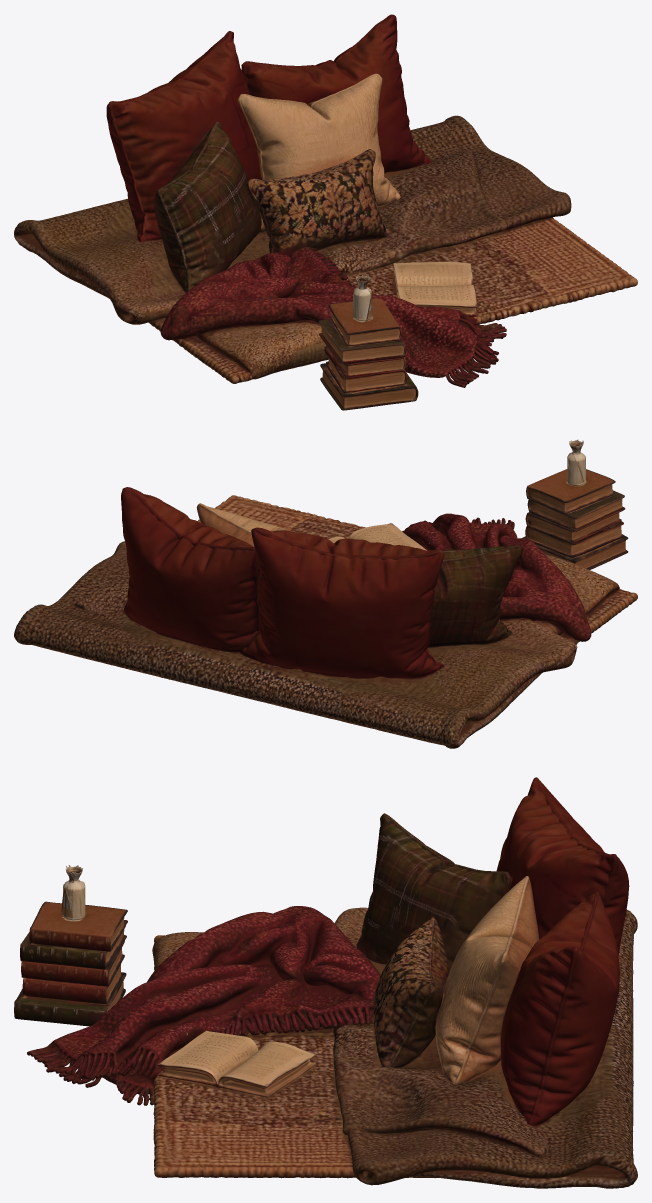
File: cozy-sofa.glb
The picture shows the model from 3 angles, top to bottom: view 1: azimuth 30°, elevation 25°; view 2: azimuth 150°, elevation 25°; view 3: azimuth 270°, elevation 25°; orthographic projection. The views are drawn at different scales.
Visible parts, largest first — view 1: tripo_node_d145f782-2c45-49c1-9e29-809dc2638163; view 2: tripo_node_d145f782-2c45-49c1-9e29-809dc2638163; view 3: tripo_node_d145f782-2c45-49c1-9e29-809dc2638163.
Boxes of the visible parts, left/top/right/bottom form: tripo_node_d145f782-2c45-49c1-9e29-809dc2638163: left=14, top=14, right=637, bottom=410; tripo_node_d145f782-2c45-49c1-9e29-809dc2638163: left=14, top=439, right=637, bottom=748; tripo_node_d145f782-2c45-49c1-9e29-809dc2638163: left=14, top=777, right=637, bottom=1188.
Size of the model in its own units: 0.9767 by 0.364 by 0.981.
1 material, 1 textured.
